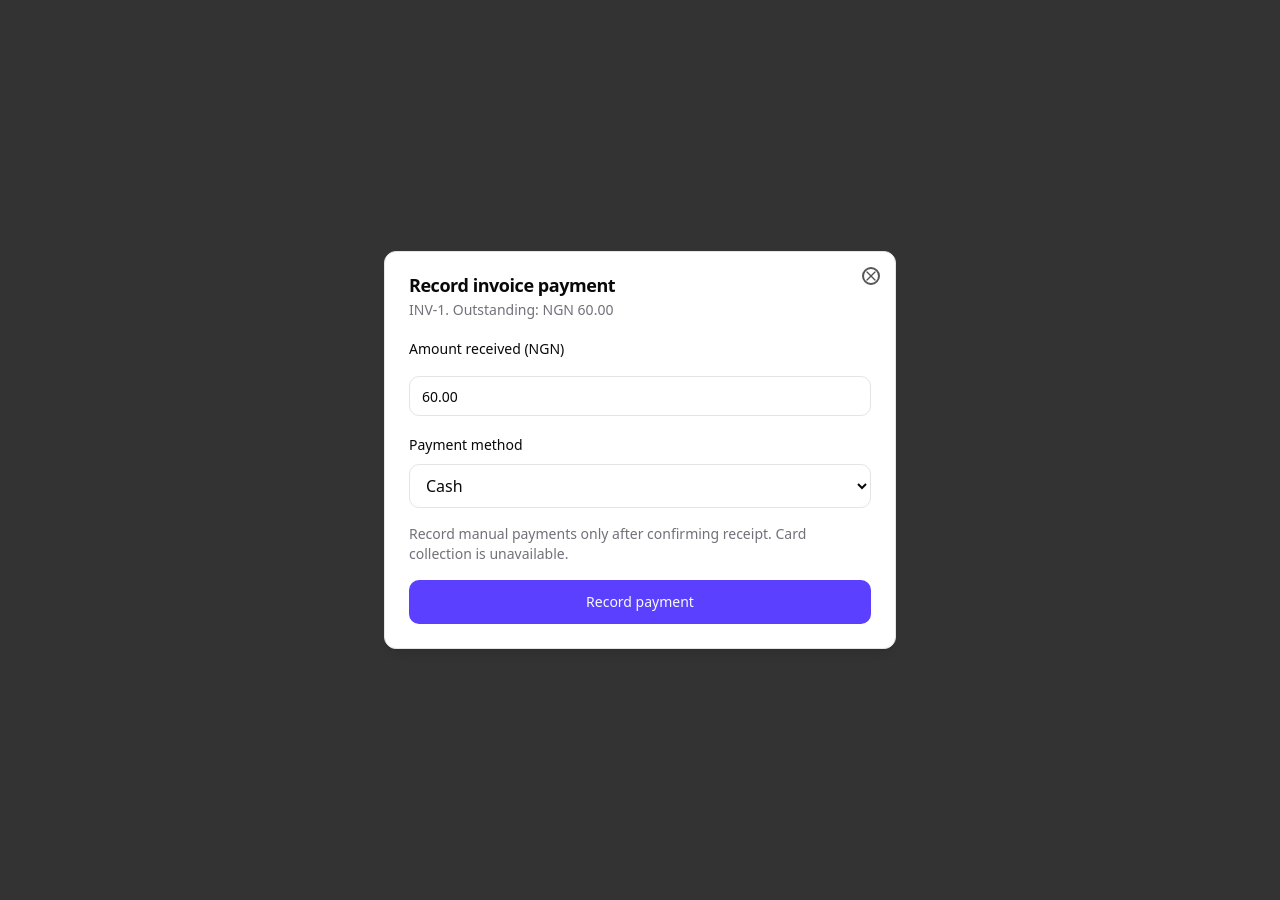
Test: a definite validation rejection allows correcting payment details with the same key
Expected: the dropdown labelled "Payment method" is shown, 409,464 -> 871,508
Click the button "Record payment". click: point(640, 602)
box: 409,580 -> 871,624
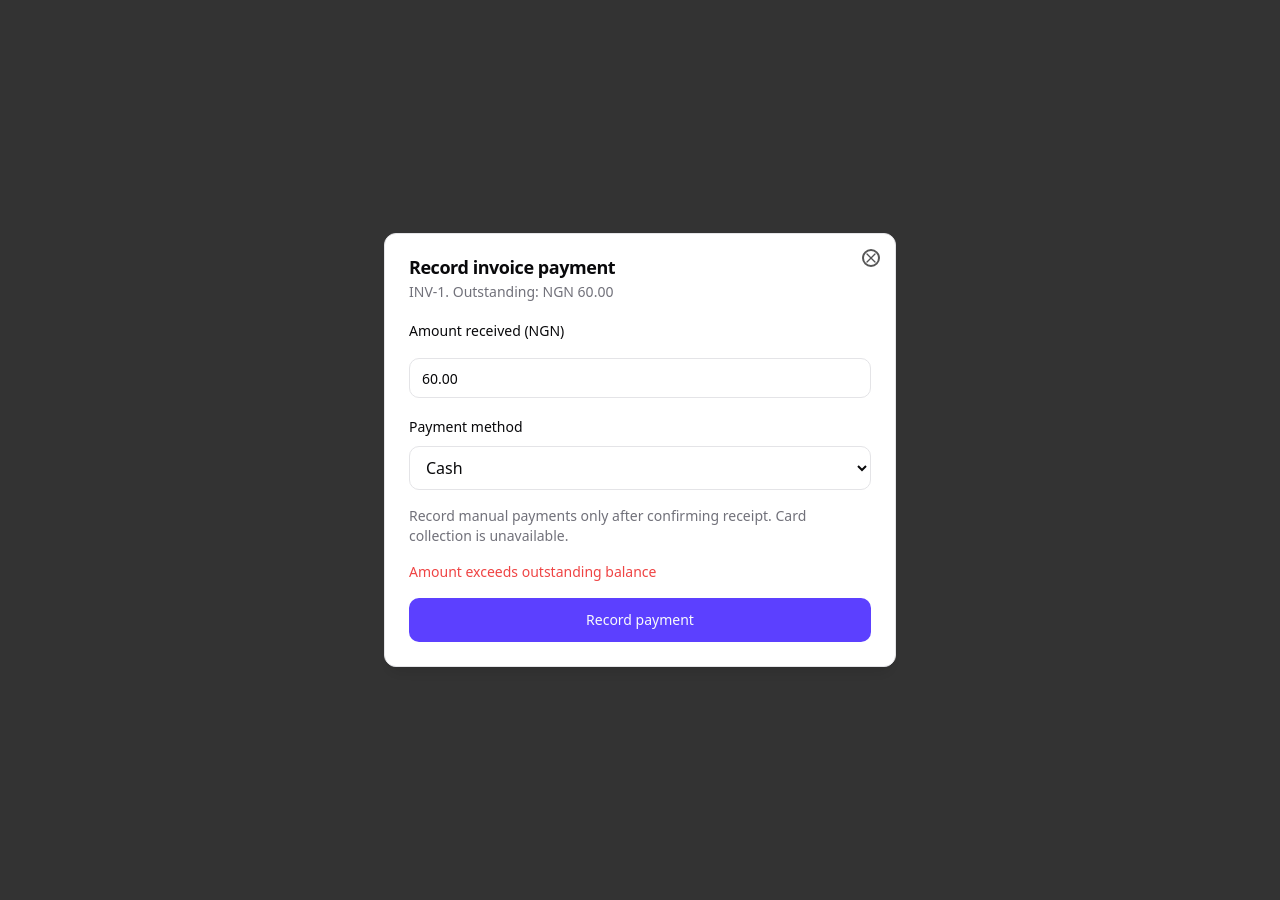
Expected: the field labelled "Amount received (NGN)" is enabled, 409,358 -> 871,398
Now the message reads "Amount exceeds outstanding balance", box 409,562 -> 656,581
